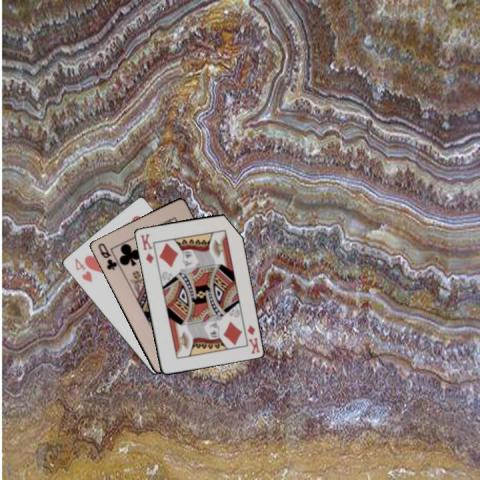4h: (72, 255, 94, 284)
Kd: (136, 230, 154, 264), (244, 322, 261, 355)
Qc: (95, 240, 118, 271)
